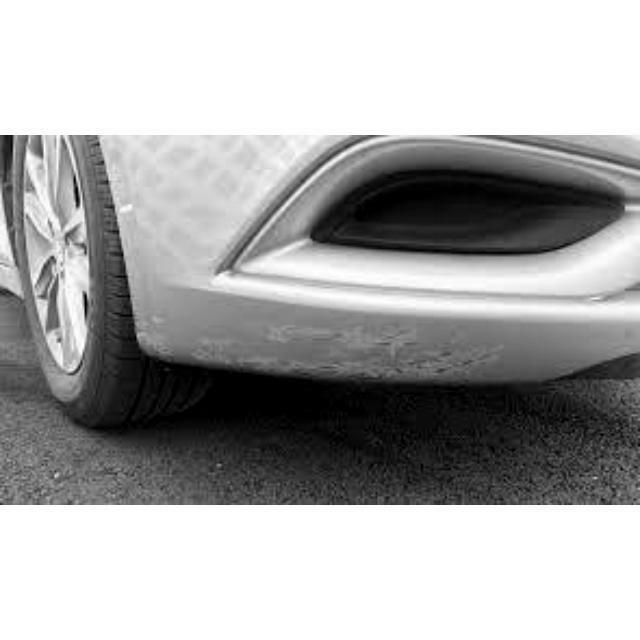front-bumper-dent: (101, 218, 632, 400)
